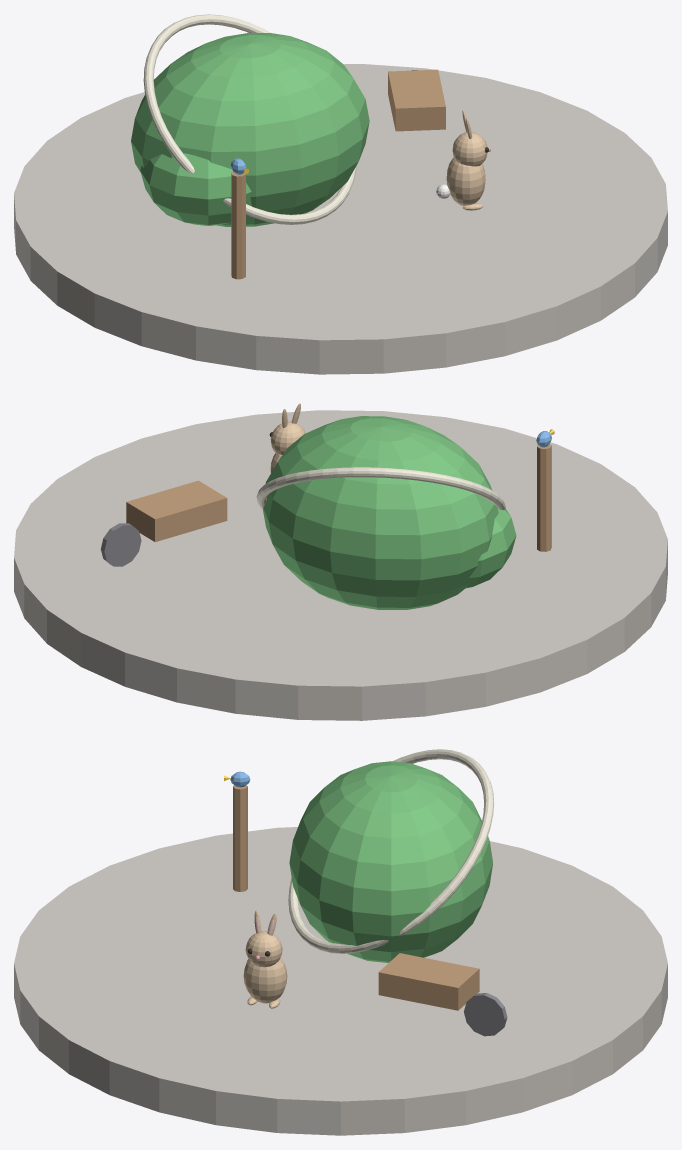
Rendered from scene3_adventure.glb.
3 renders of one model, top to bottom at view 1: azimuth 30°, elevation 25°; view 2: azimuth 150°, elevation 25°; view 3: azimuth 270°, elevation 25°, orthographic.
Parts seen in each view (by area): view 1: Adventure_Ground, Gooseberry_Bush_Main, Gooseberry_Bush_Sub, Gooseberry_Net_Rope, Wheelbarrow_Body, Fence_Post, Peter_Escaping_Body, Peter_Escaping_Head; view 2: Adventure_Ground, Gooseberry_Bush_Main, Wheelbarrow_Body, Gooseberry_Net_Rope, Gooseberry_Bush_Sub, Fence_Post, Wheelbarrow_Wheel, Peter_Escaping_Head; view 3: Adventure_Ground, Gooseberry_Bush_Main, Wheelbarrow_Body, Gooseberry_Net_Rope, Fence_Post, Peter_Escaping_Body, Wheelbarrow_Wheel, Peter_Escaping_Head.
Part boxes in pixels (bbox=[...]): Adventure_Ground: bbox=[14, 64, 667, 374]; Gooseberry_Bush_Main: bbox=[131, 33, 369, 226]; Gooseberry_Bush_Sub: bbox=[140, 153, 251, 225]; Gooseberry_Net_Rope: bbox=[143, 14, 356, 224]; Wheelbarrow_Body: bbox=[388, 69, 445, 131]; Fence_Post: bbox=[231, 171, 245, 279]; Peter_Escaping_Body: bbox=[446, 157, 485, 205]; Peter_Escaping_Head: bbox=[452, 132, 487, 166]; Adventure_Ground: bbox=[14, 410, 667, 720]; Gooseberry_Bush_Main: bbox=[263, 416, 498, 609]; Wheelbarrow_Body: bbox=[126, 480, 227, 541]; Gooseberry_Net_Rope: bbox=[256, 467, 505, 509]; Gooseberry_Bush_Sub: bbox=[465, 508, 516, 588]; Fence_Post: bbox=[537, 444, 551, 551]; Wheelbarrow_Wheel: bbox=[100, 523, 141, 566]; Peter_Escaping_Head: bbox=[270, 421, 305, 454]; Adventure_Ground: bbox=[14, 827, 667, 1135]; Gooseberry_Bush_Main: bbox=[289, 761, 492, 962]; Wheelbarrow_Body: bbox=[378, 953, 479, 1010]; Gooseberry_Net_Rope: bbox=[288, 749, 493, 953]; Fence_Post: bbox=[233, 785, 247, 891]; Peter_Escaping_Body: bbox=[243, 958, 287, 1003]; Wheelbarrow_Wheel: bbox=[464, 993, 507, 1036]; Peter_Escaping_Head: bbox=[245, 931, 282, 967].
Bounding box in the file's own units: 5.2 × 1.67 × 5.2.
